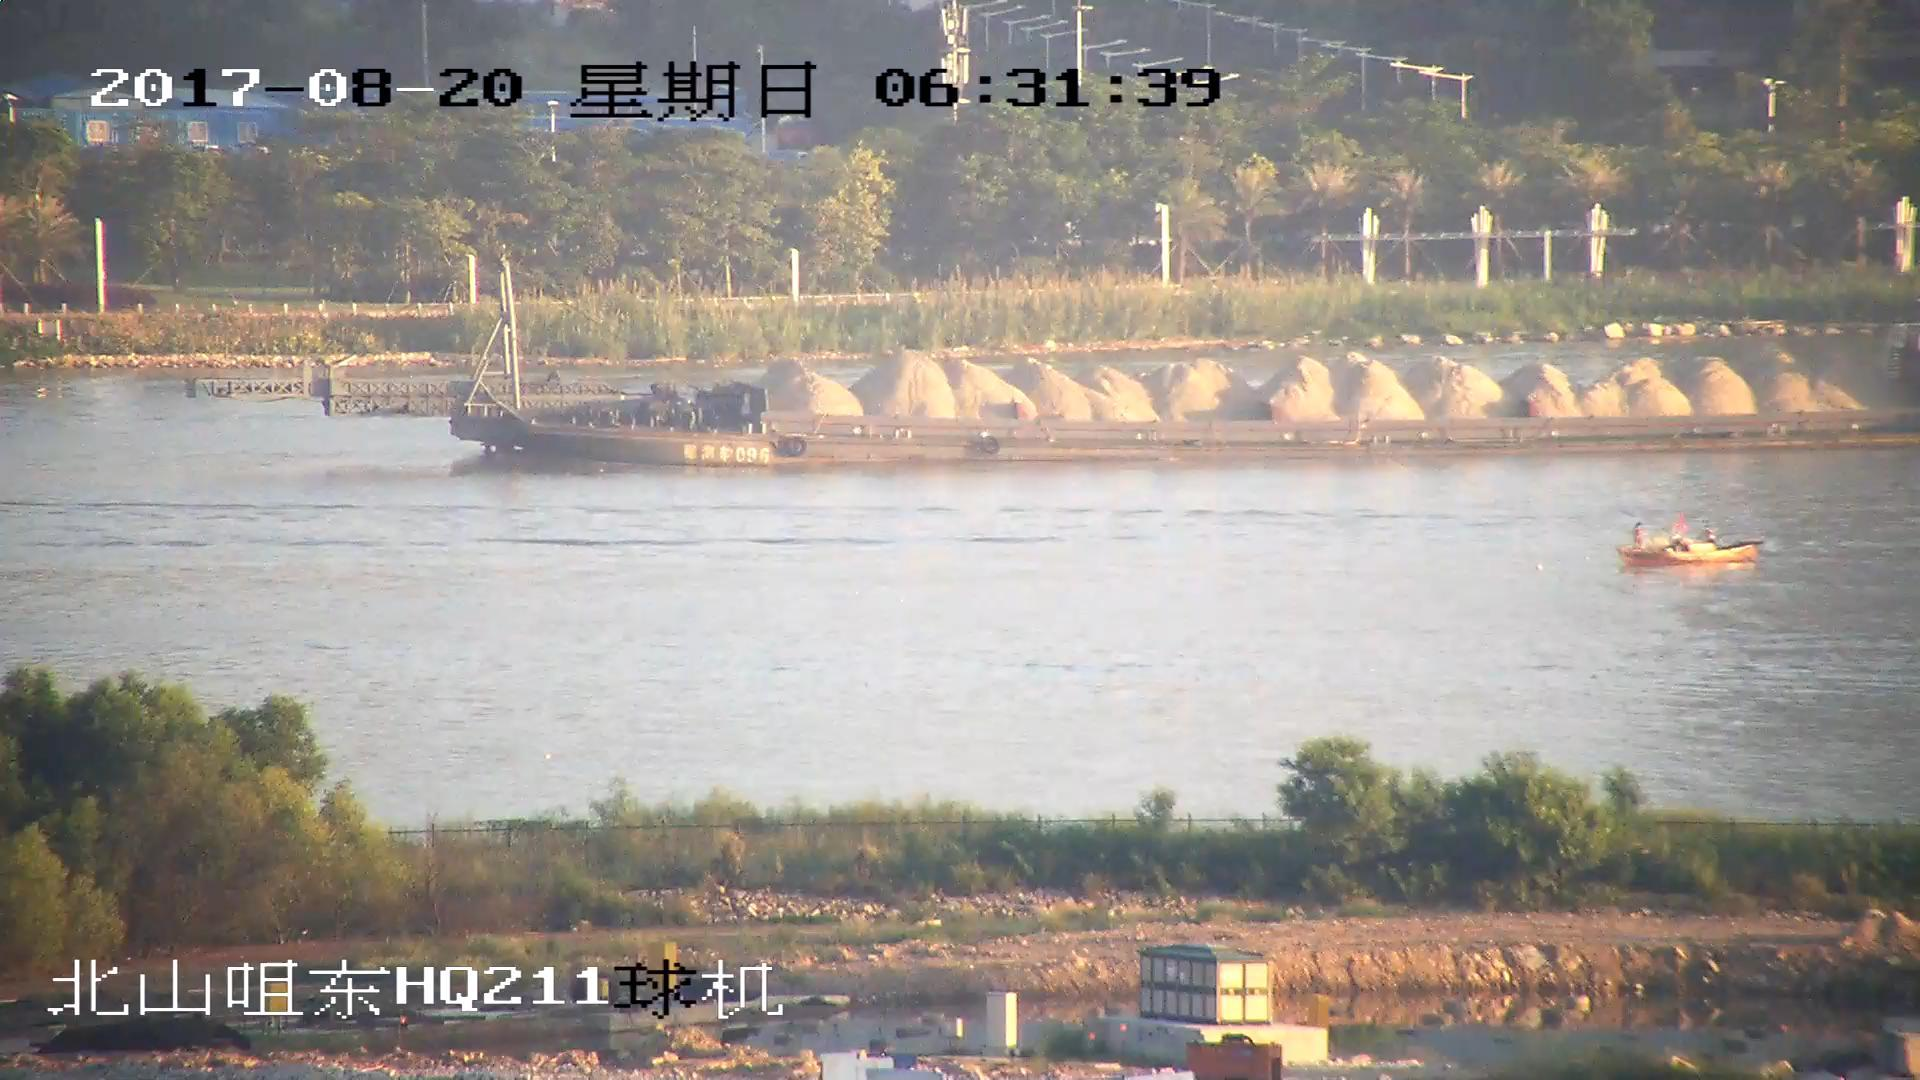Ship: (189, 256, 1920, 472), (1618, 508, 1768, 575)
